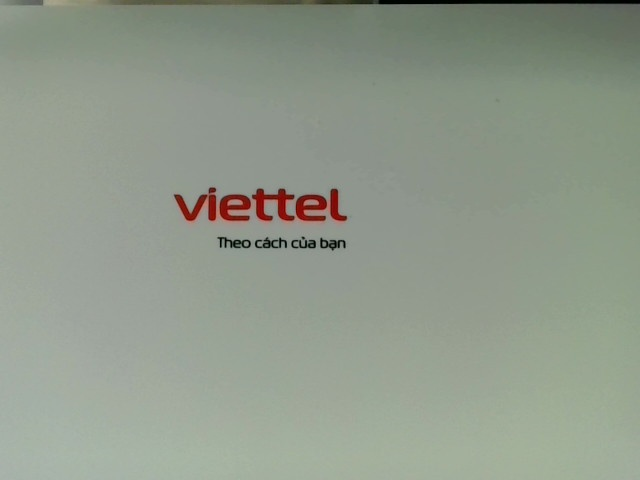AY_Viettel: (168, 184, 367, 256)
